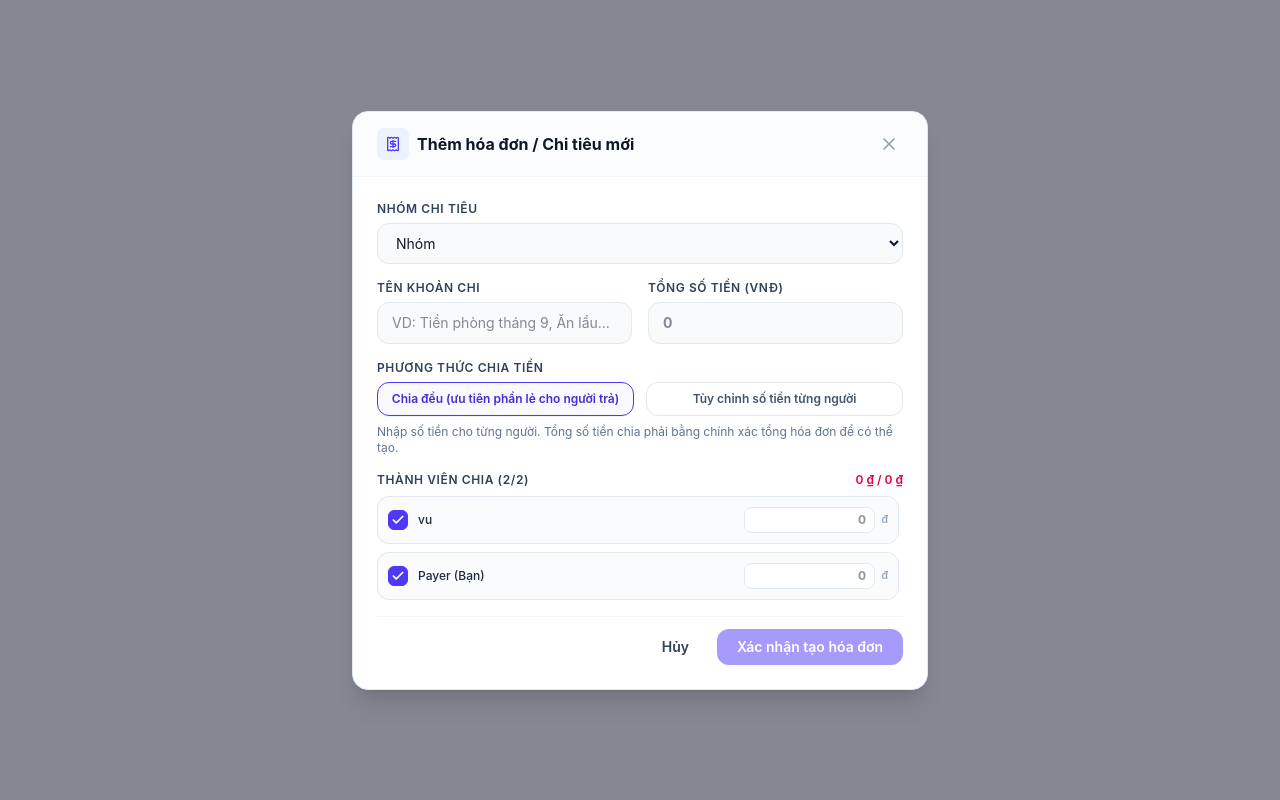
Test case: clearing and retyping does not alter others; an empty blur restores the amount
Expected: the text "vu" is shown, [418, 512, 432, 528]
Type "111111" into the field named "Tổng số tiền".
click(776, 322); type("111111")  # box [648, 302, 903, 344]
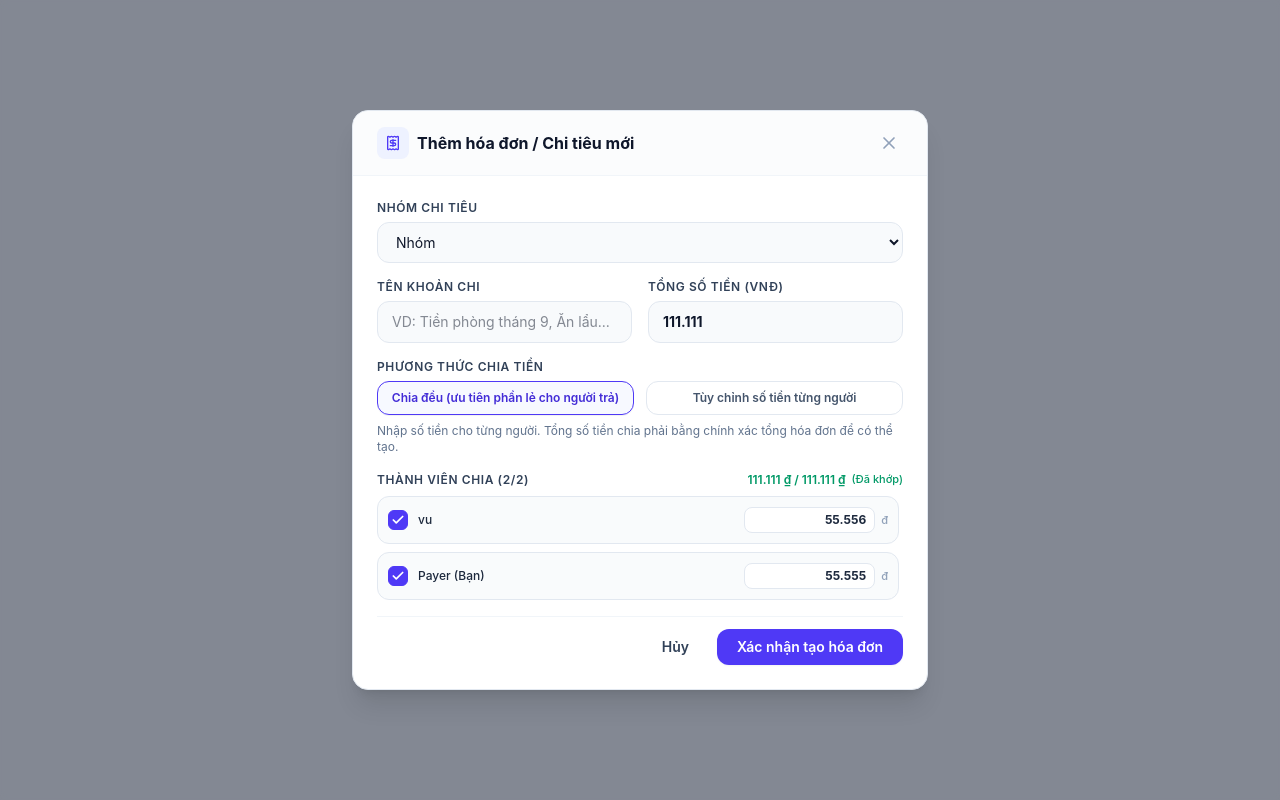
Clear the field named "Số tiền của Payer" at (810, 576), box [744, 563, 875, 589]
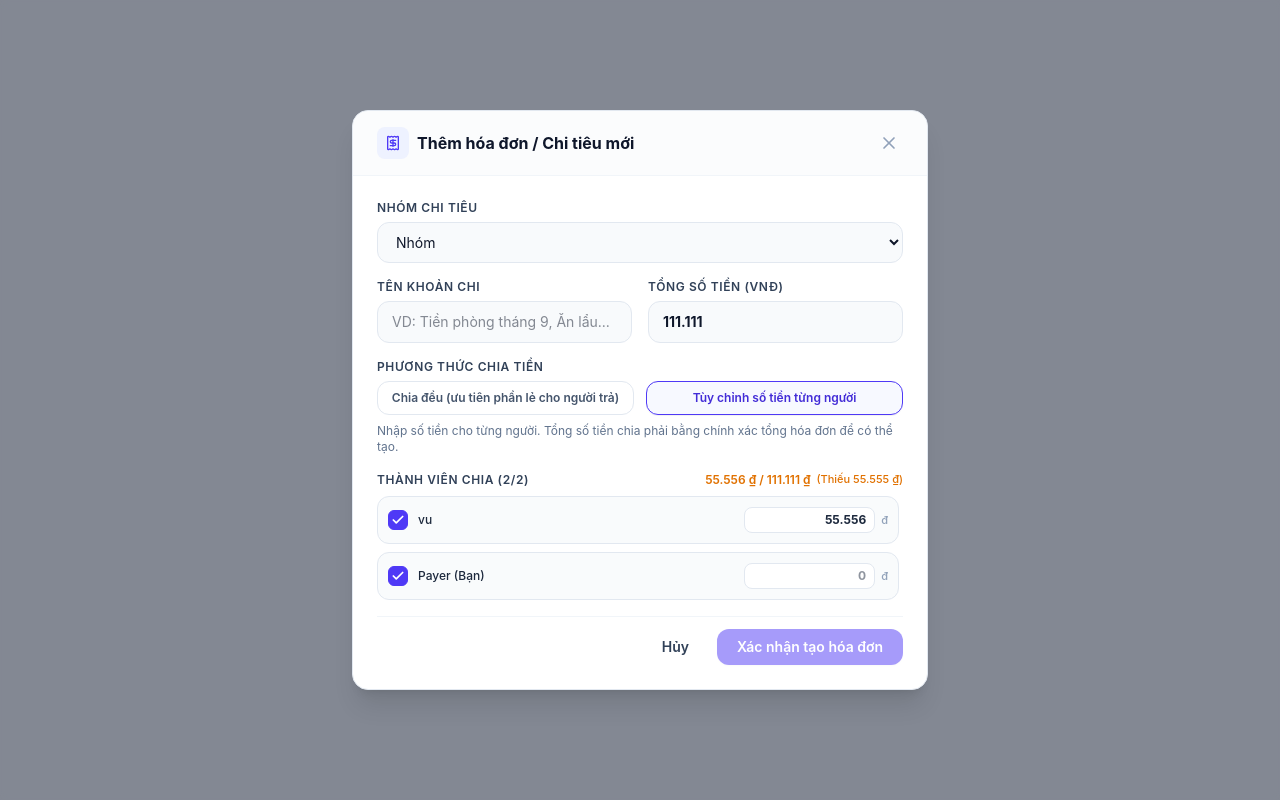
Result: the field named "Số tiền của vu" holds "55.556" at [744, 507, 875, 533]
Leave the field named "Số tiền của Payer", box [744, 563, 875, 589]
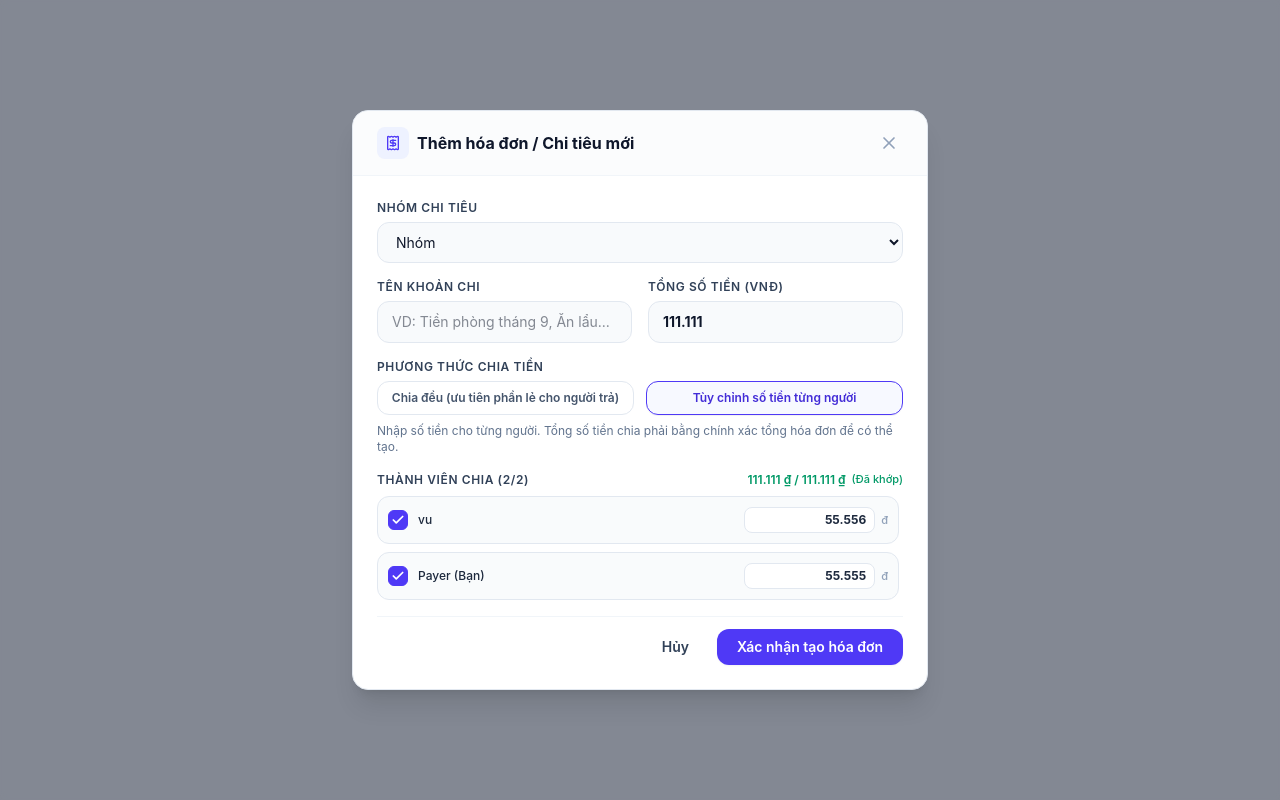
Result: the field named "Số tiền của Payer" holds "55.555"
Replace the text in the field named "Số tiền của Payer" with "4" at (810, 576), box [744, 563, 875, 589]
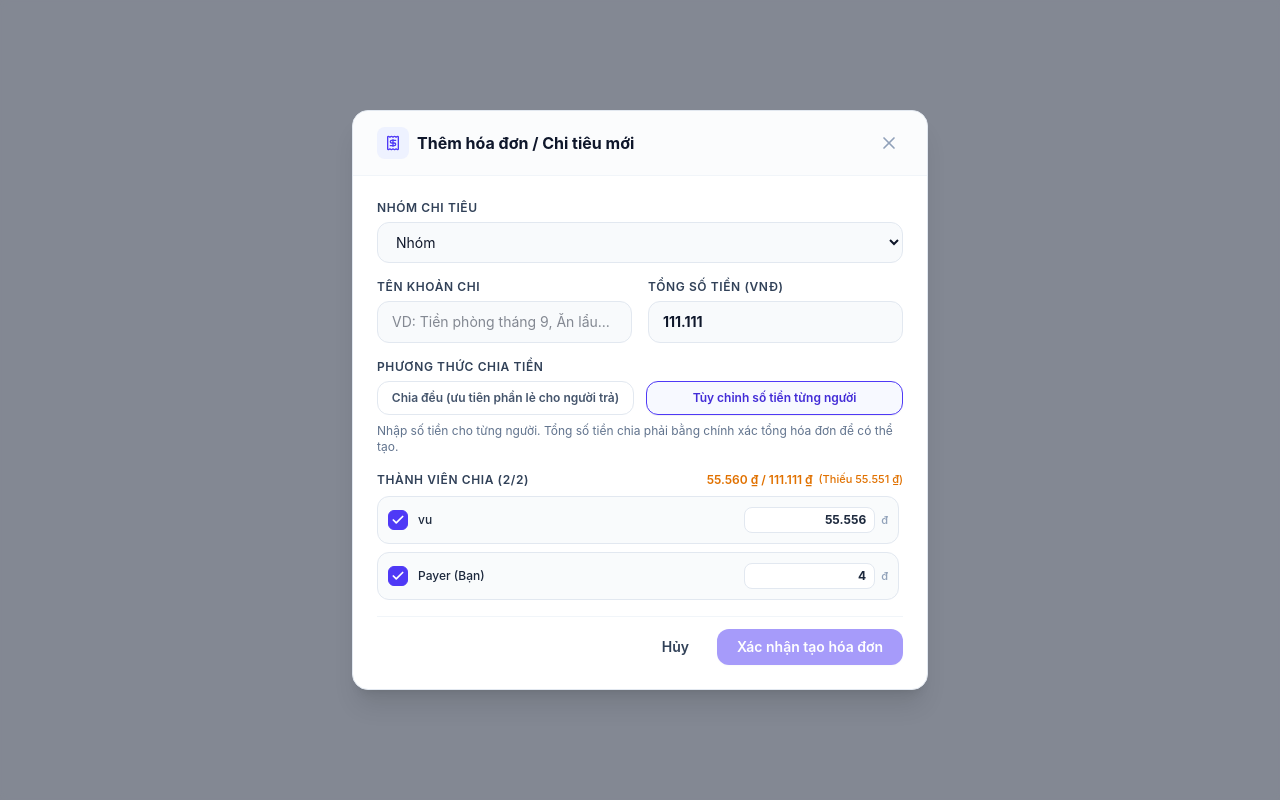
Replace the text in the field named "Số tiền của Payer" with "40000" at (810, 576), box [744, 563, 875, 589]
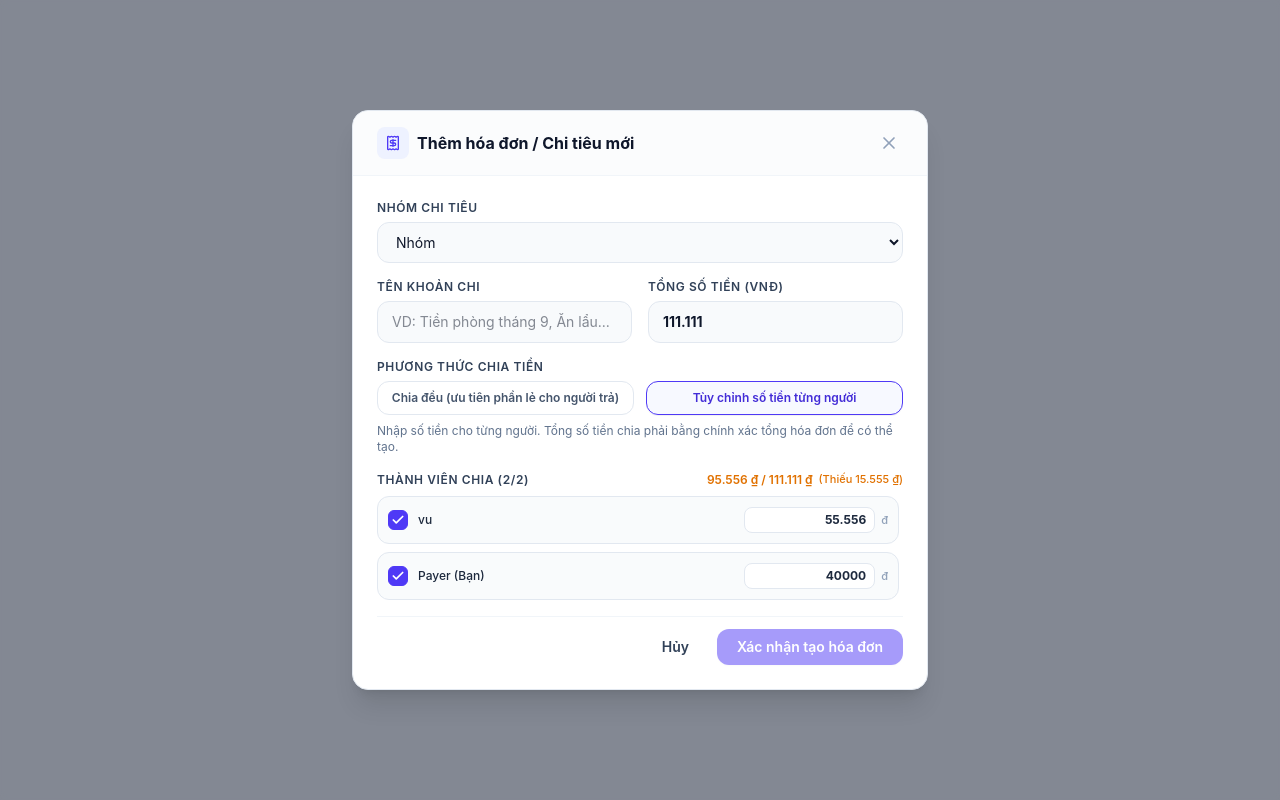
Result: the field named "Số tiền của vu" holds "55.556" at [744, 507, 875, 533]
Leave the field named "Số tiền của Payer", box [744, 563, 875, 589]
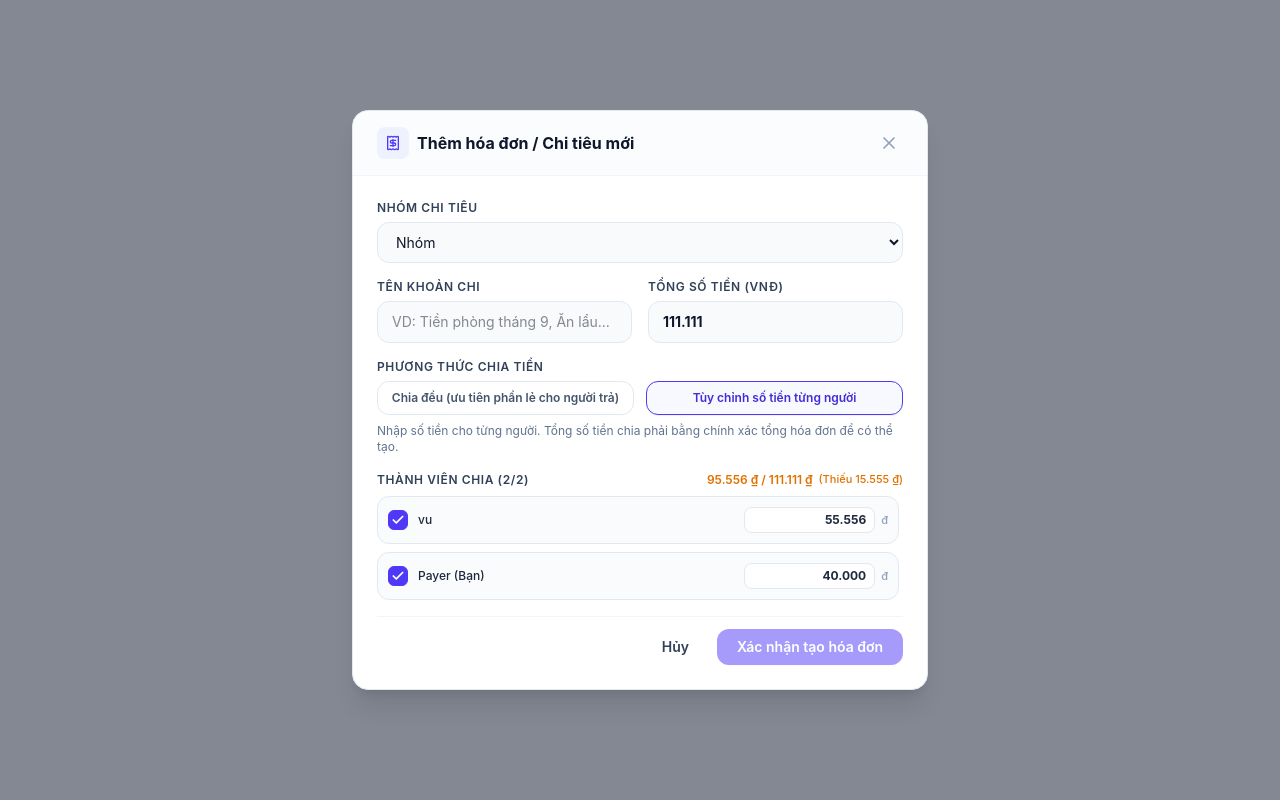
Result: the field named "Số tiền của vu" holds "55.556" at [744, 507, 875, 533]
Result: the field named "Số tiền của Payer" holds "40.000" at [744, 563, 875, 589]
